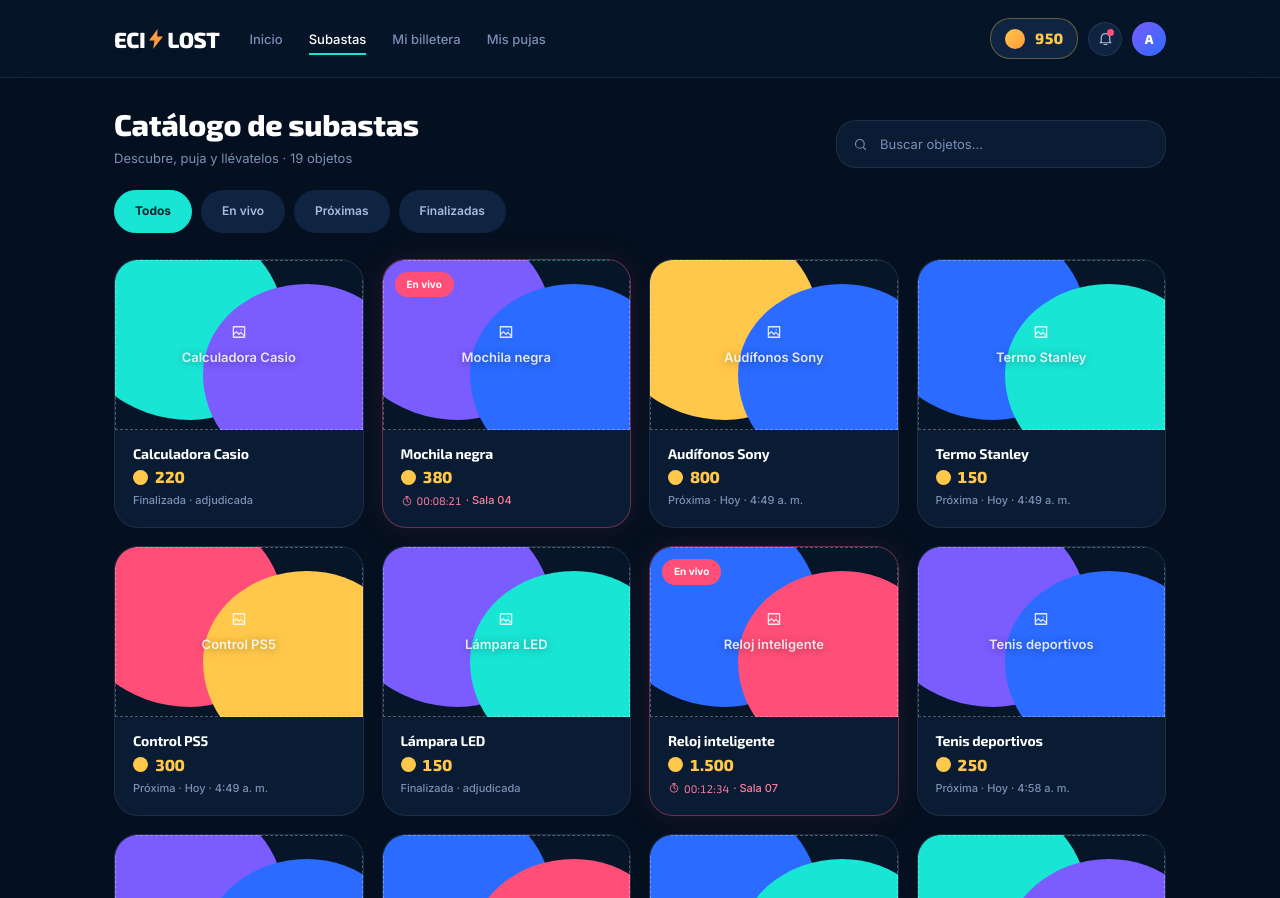
Test: Subastas › el catalogo filtra por estado y busca sin importar tildes
Expected: the heading "Calculadora Casio" is shown, [133, 445, 249, 462]
Click the button "En vivo" at (243, 212), box [201, 190, 285, 233]
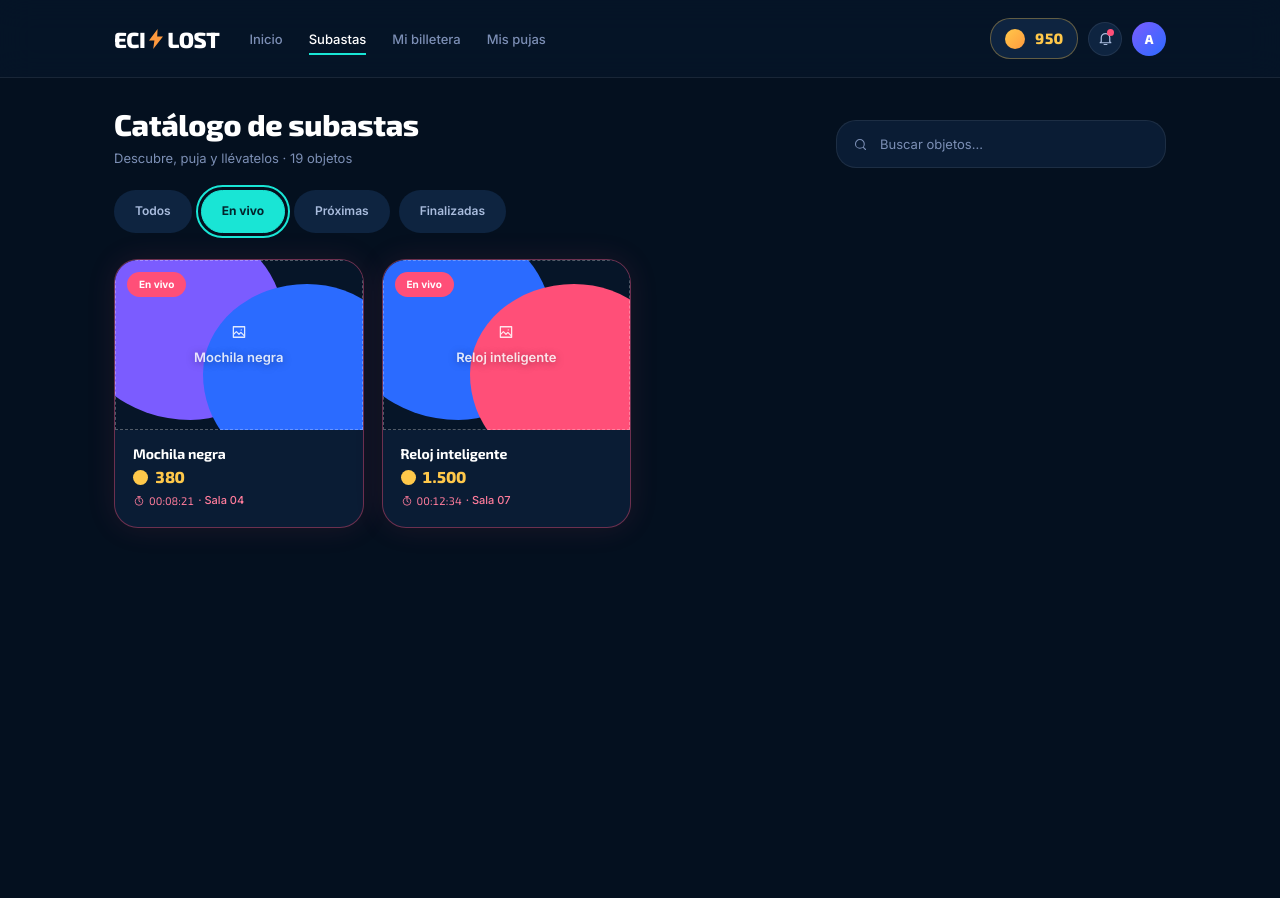
Expected: the heading "Mochila negra" is shown, [133, 445, 226, 462]
Expected: the link "Calculadora Casio" is gone
Click the button "Todos" at (153, 212), box [114, 190, 192, 233]
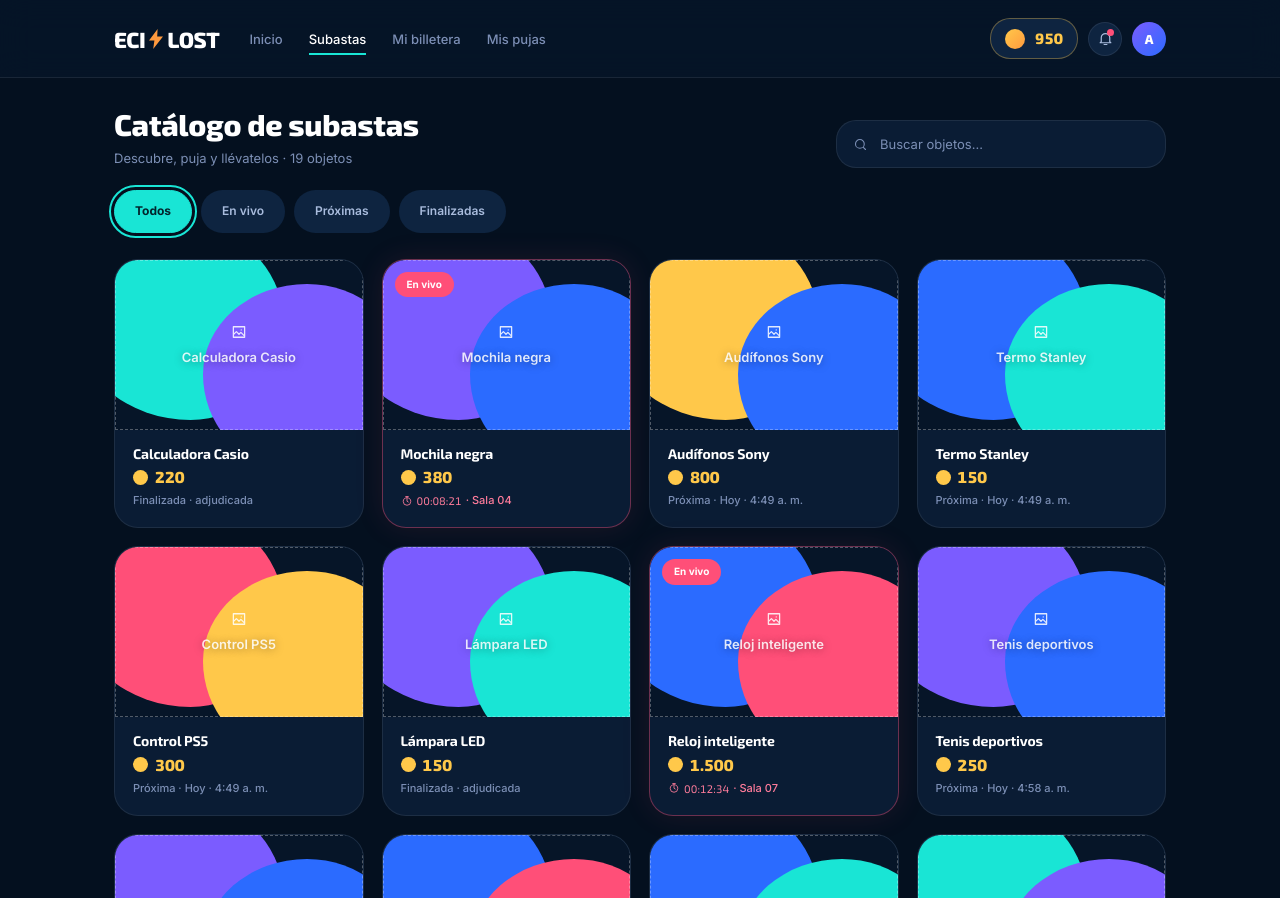
Type "audifonos" into the search field labelled "Buscar objetos..." at (1014, 144), box [878, 135, 1149, 153]
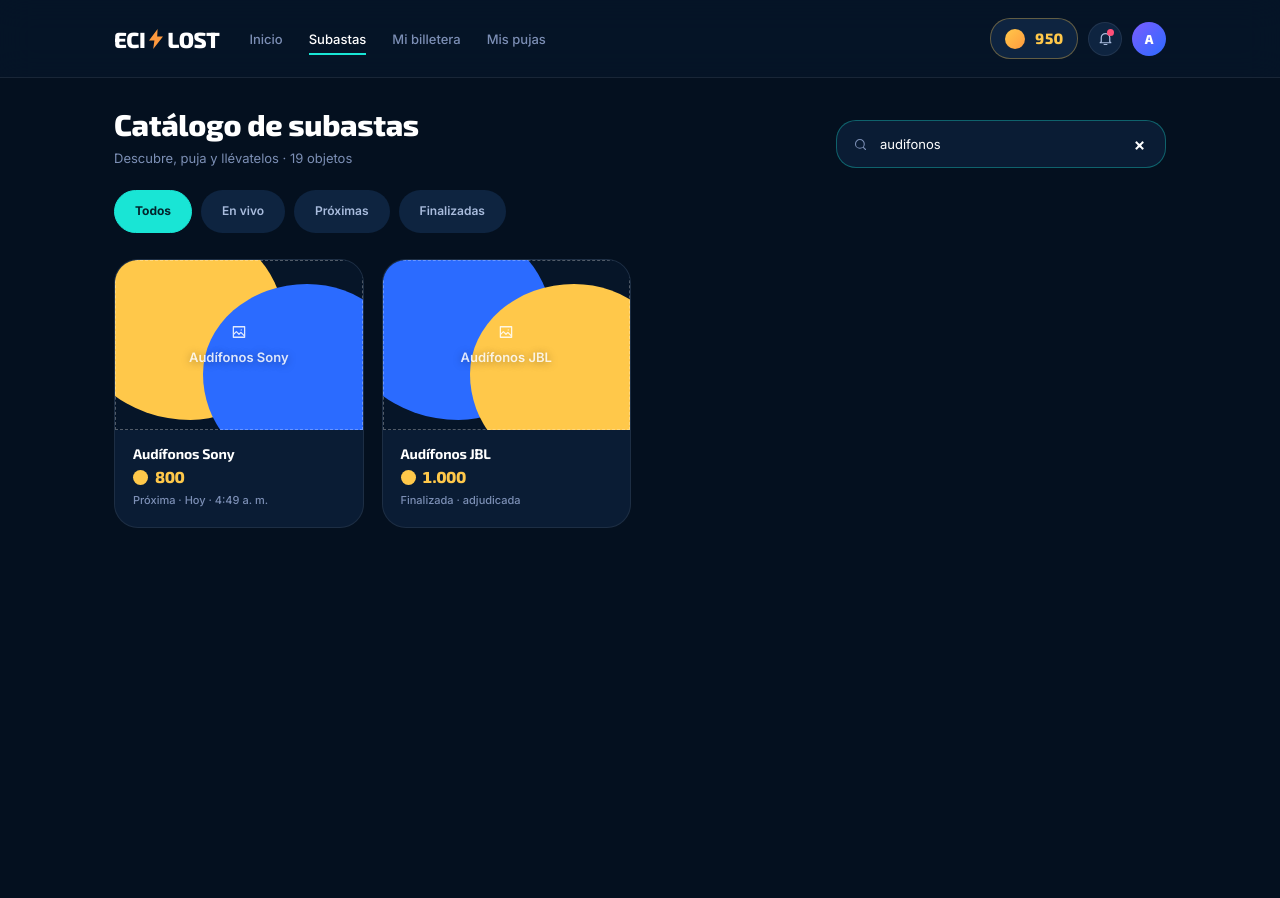
Expected: the heading "Audífonos Sony" is shown, [133, 445, 234, 462]
Expected: the link "Mochila negra" is gone
